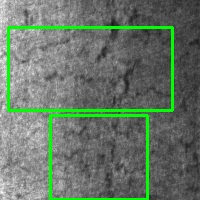crazing: (8, 27, 172, 110), (50, 115, 147, 199)
